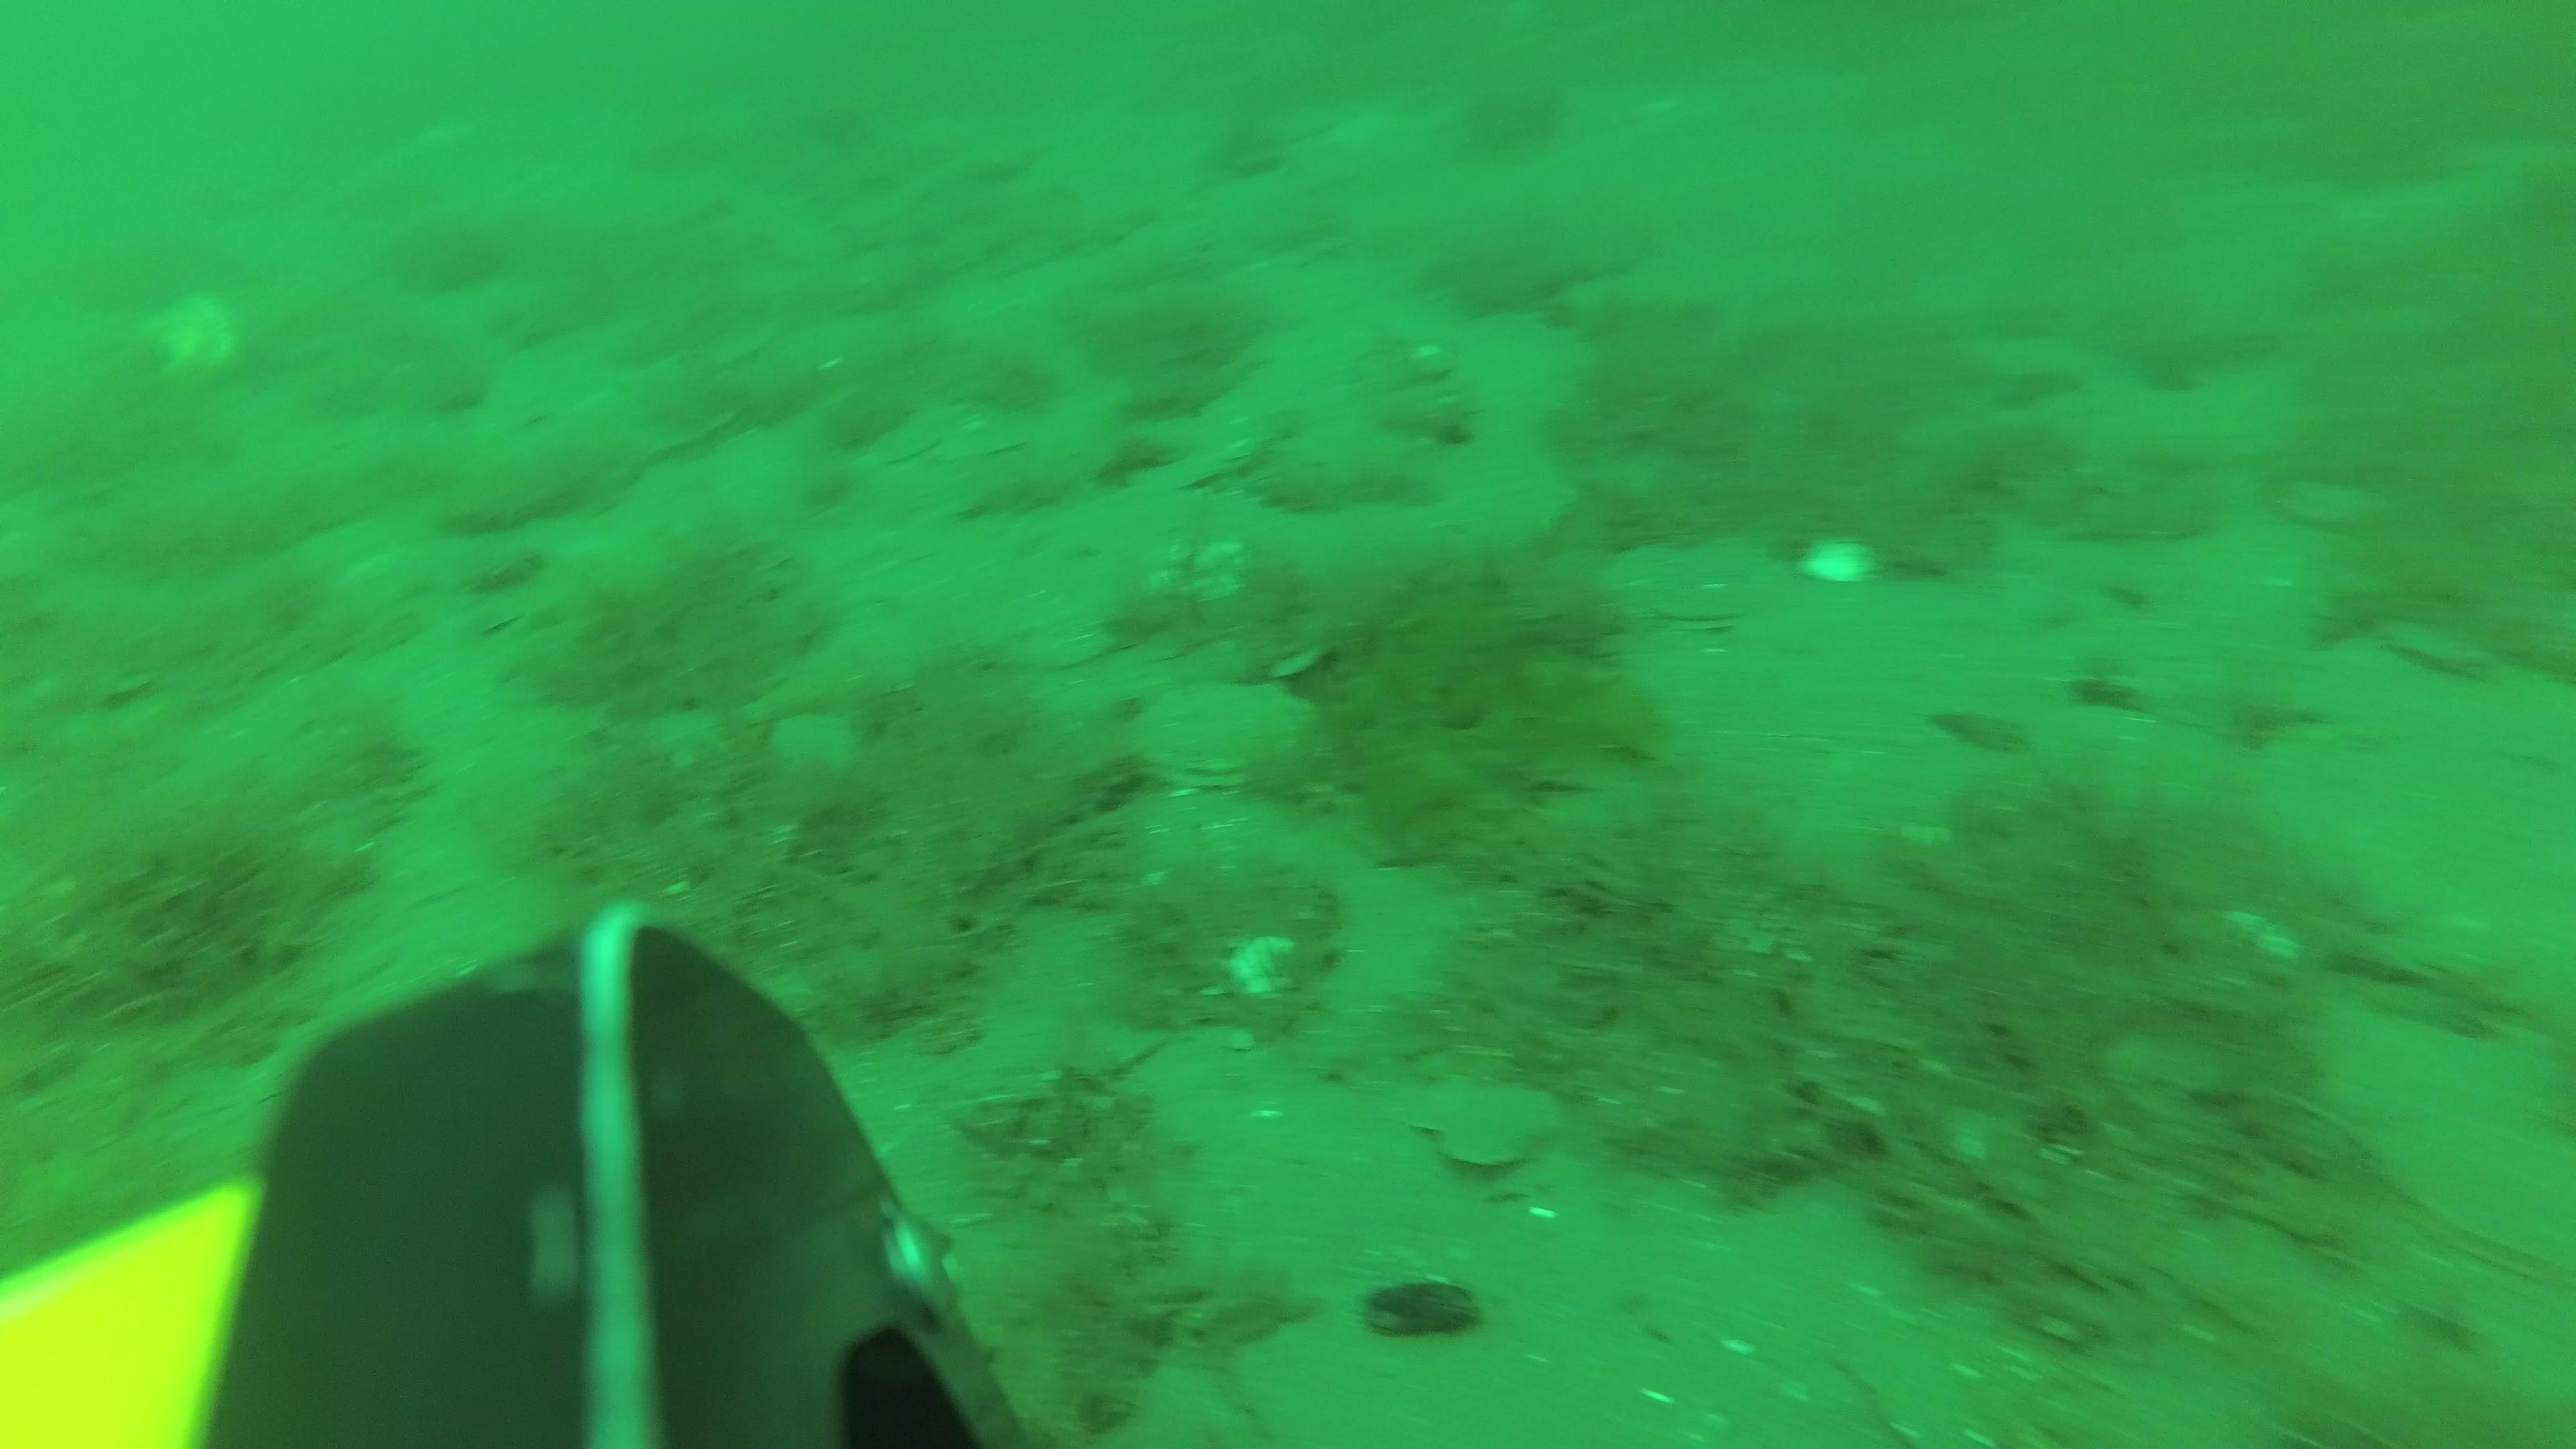scallop: (2381, 1115, 2576, 1290), (1127, 678, 1320, 786), (1442, 1079, 1564, 1169), (143, 292, 237, 386), (1660, 579, 1748, 635)
